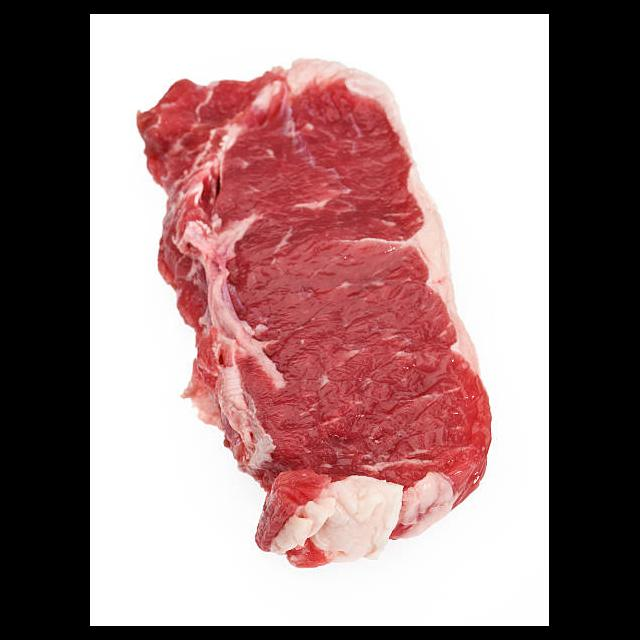beef: (136, 58, 492, 569)
